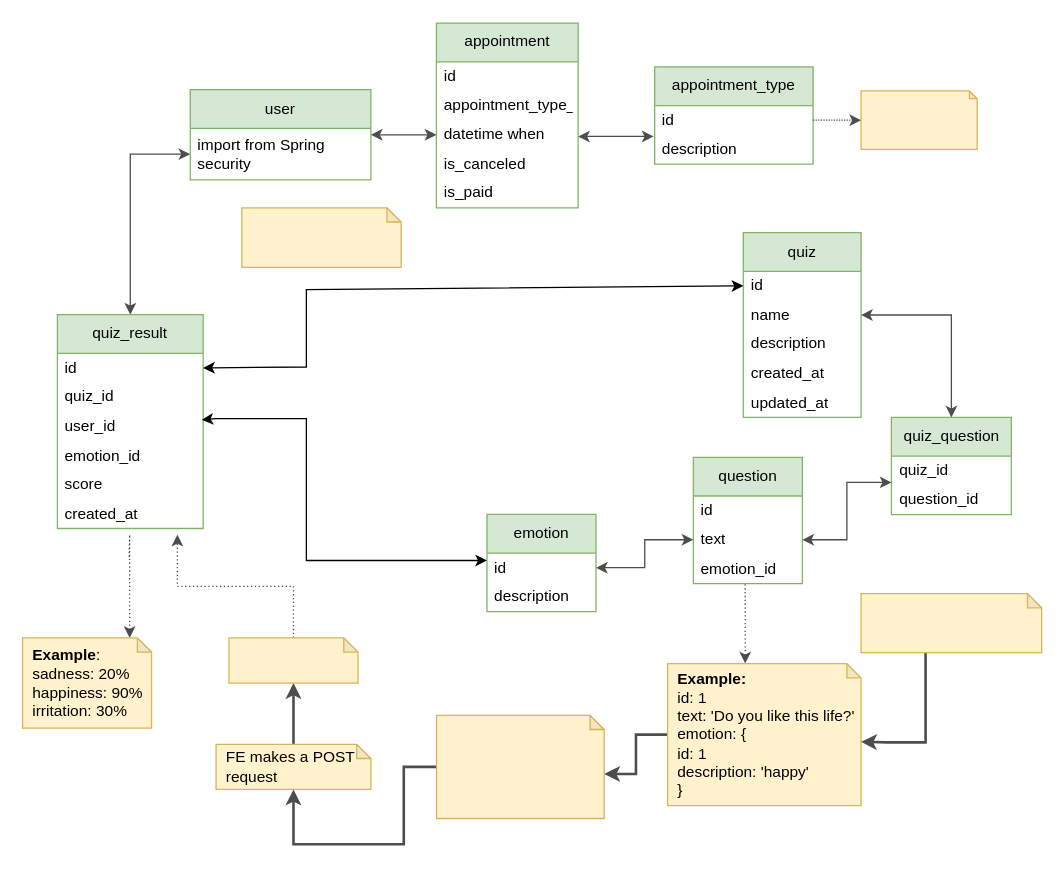
Image size: 1064x878. Some labels were removed from this diagram. Each missing label, with the centre of its shape:
Create a new row: (x=293, y=660)
JSON from frontend: { emotion_id: 1, value: 5 }: (x=519, y=766)
psychologist training etc.: (x=918, y=119)
Quiz is sent to frontend: (x=951, y=622)
user can take the same quiz a few time: (x=321, y=237)
